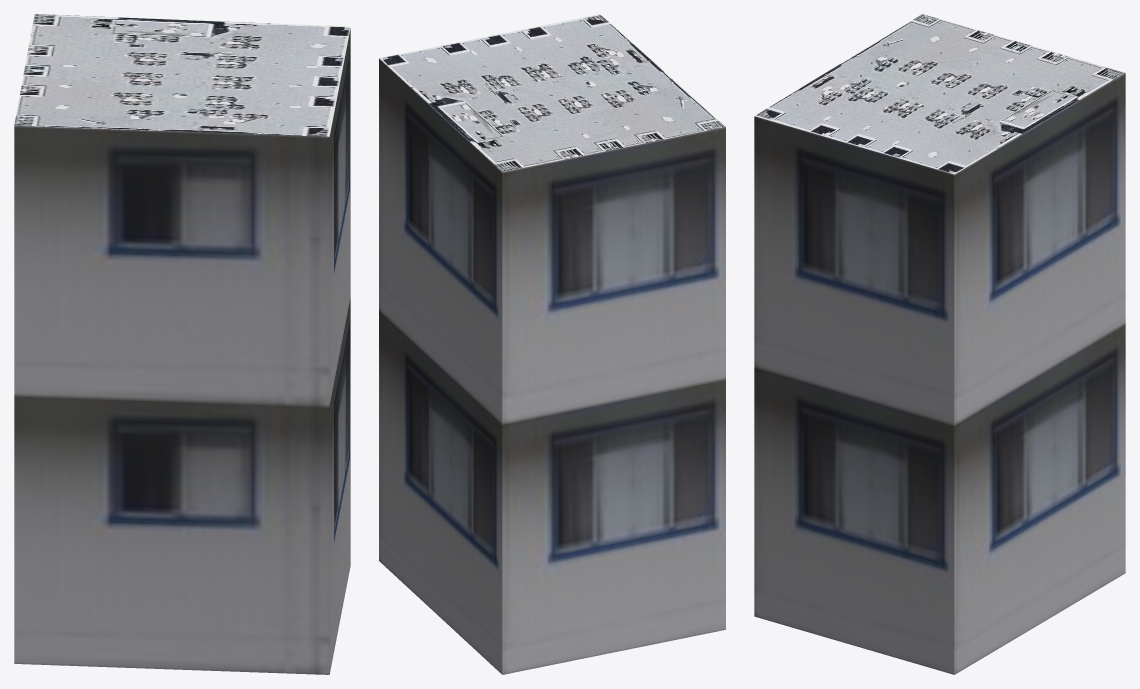
The model's file is ResTex__3876.fbx.
3 renders of one model, left to right at view 1: azimuth 30°, elevation 25°; view 2: azimuth 150°, elevation 25°; view 3: azimuth 270°, elevation 25°, orthographic. The views are drawn at different scales.
Parts seen in each view (by area): view 1: CityEngineMaterial_9_m, CityEngineMaterial_2_m; view 2: CityEngineMaterial_9_m, CityEngineMaterial_2_m; view 3: CityEngineMaterial_9_m, CityEngineMaterial_2_m.
Part boxes in pixels (left/top/right/bottom): CityEngineMaterial_9_m: left=14, top=28, right=350, bottom=674; CityEngineMaterial_2_m: left=14, top=14, right=350, bottom=136; CityEngineMaterial_9_m: left=379, top=58, right=725, bottom=674; CityEngineMaterial_2_m: left=379, top=14, right=725, bottom=172; CityEngineMaterial_9_m: left=754, top=73, right=1125, bottom=674; CityEngineMaterial_2_m: left=754, top=14, right=1124, bottom=174.
Size of the model in its own units: 4.13 by 6 by 4.03.
2 materials, 2 textured.
